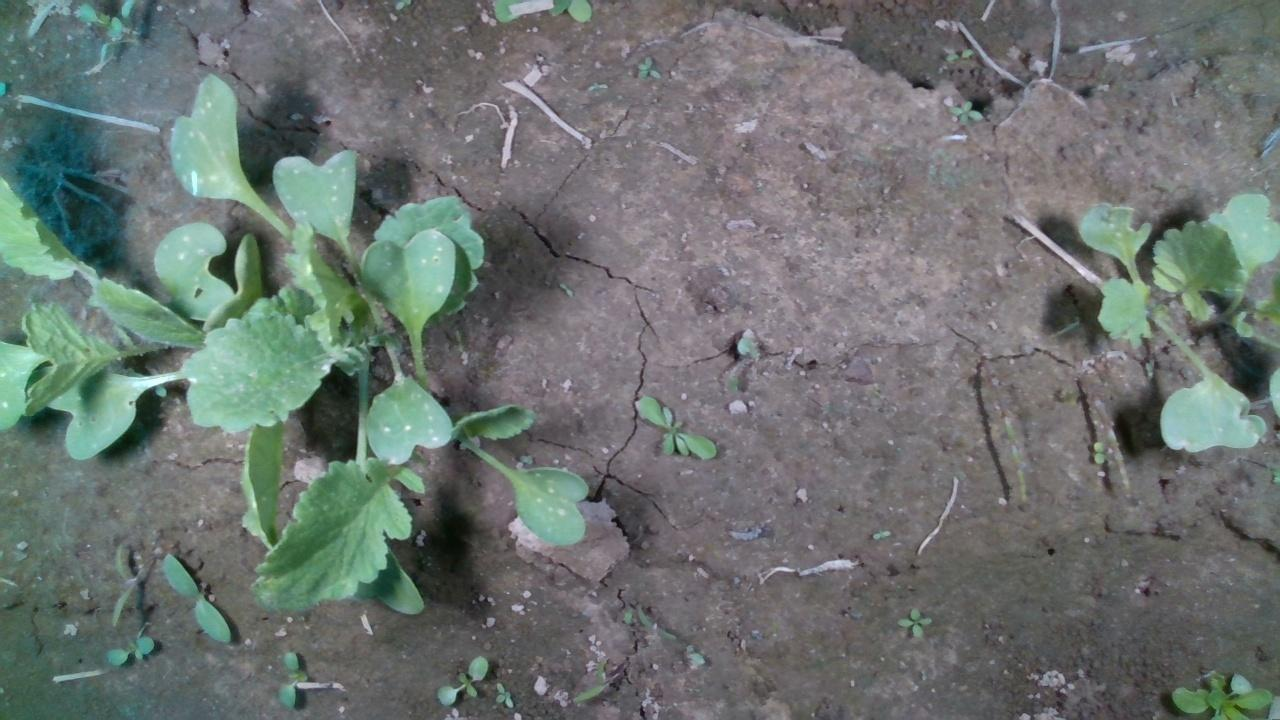weed: (161, 551, 231, 645), (634, 395, 716, 460), (434, 654, 488, 706), (109, 541, 135, 626), (275, 649, 307, 710), (105, 635, 153, 665), (894, 604, 932, 639), (945, 97, 983, 125), (635, 54, 660, 79), (493, 680, 513, 708), (1092, 439, 1106, 463), (870, 529, 892, 541)
